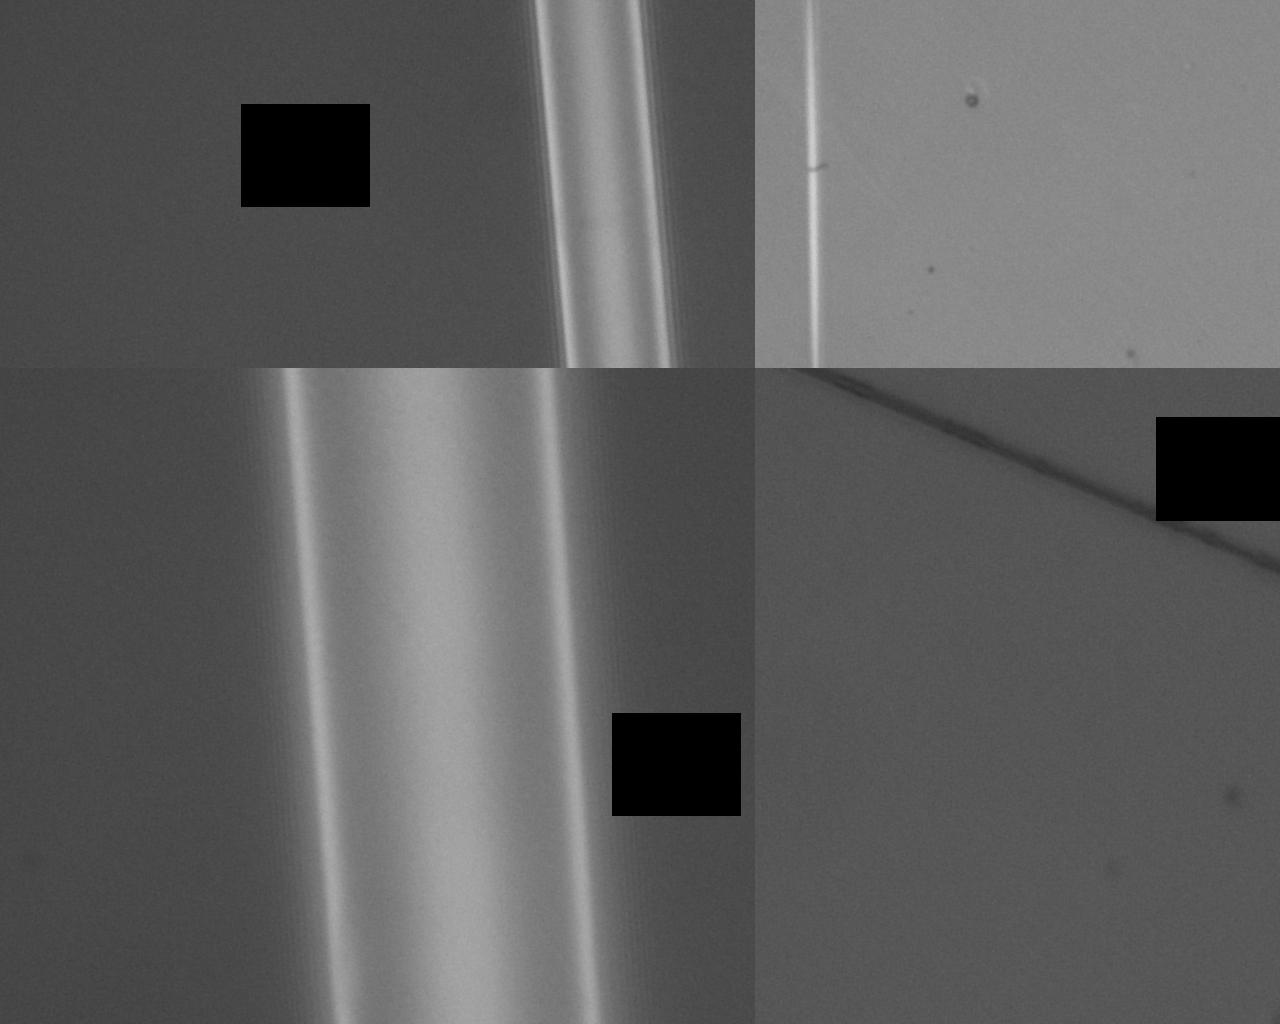fiber: (768, 238, 1206, 552), (879, 552, 1280, 826), (147, 0, 323, 552), (75, 552, 128, 1024)
